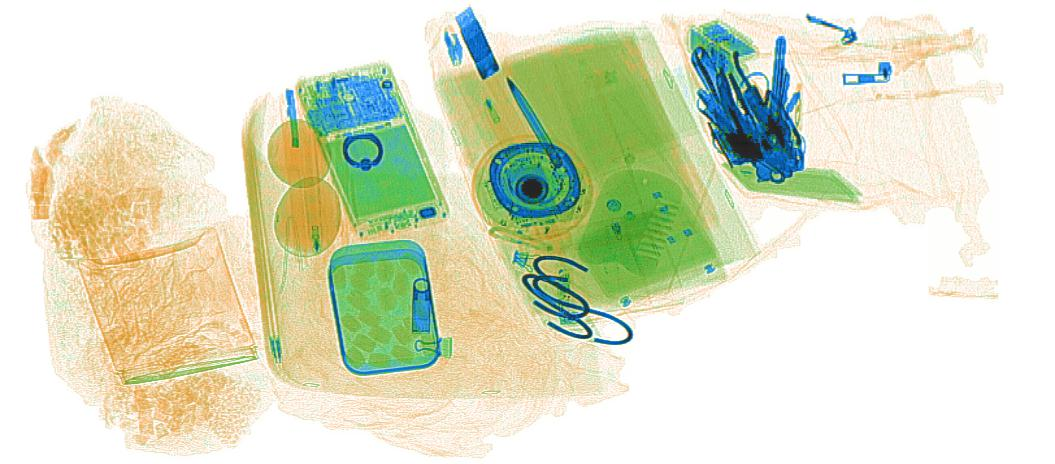USBFlashDisk: (455, 3, 498, 78), (686, 28, 735, 74), (701, 19, 757, 59)
